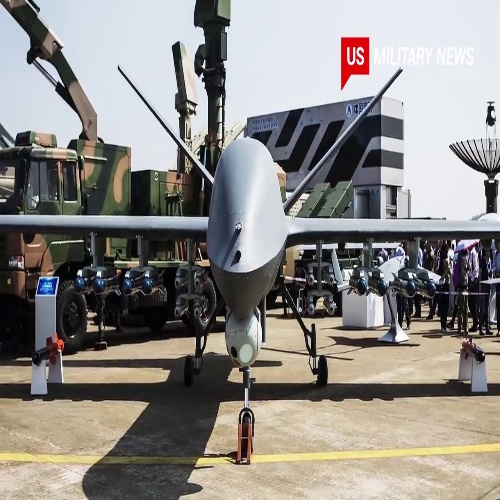uav79: (9, 67, 500, 380)
